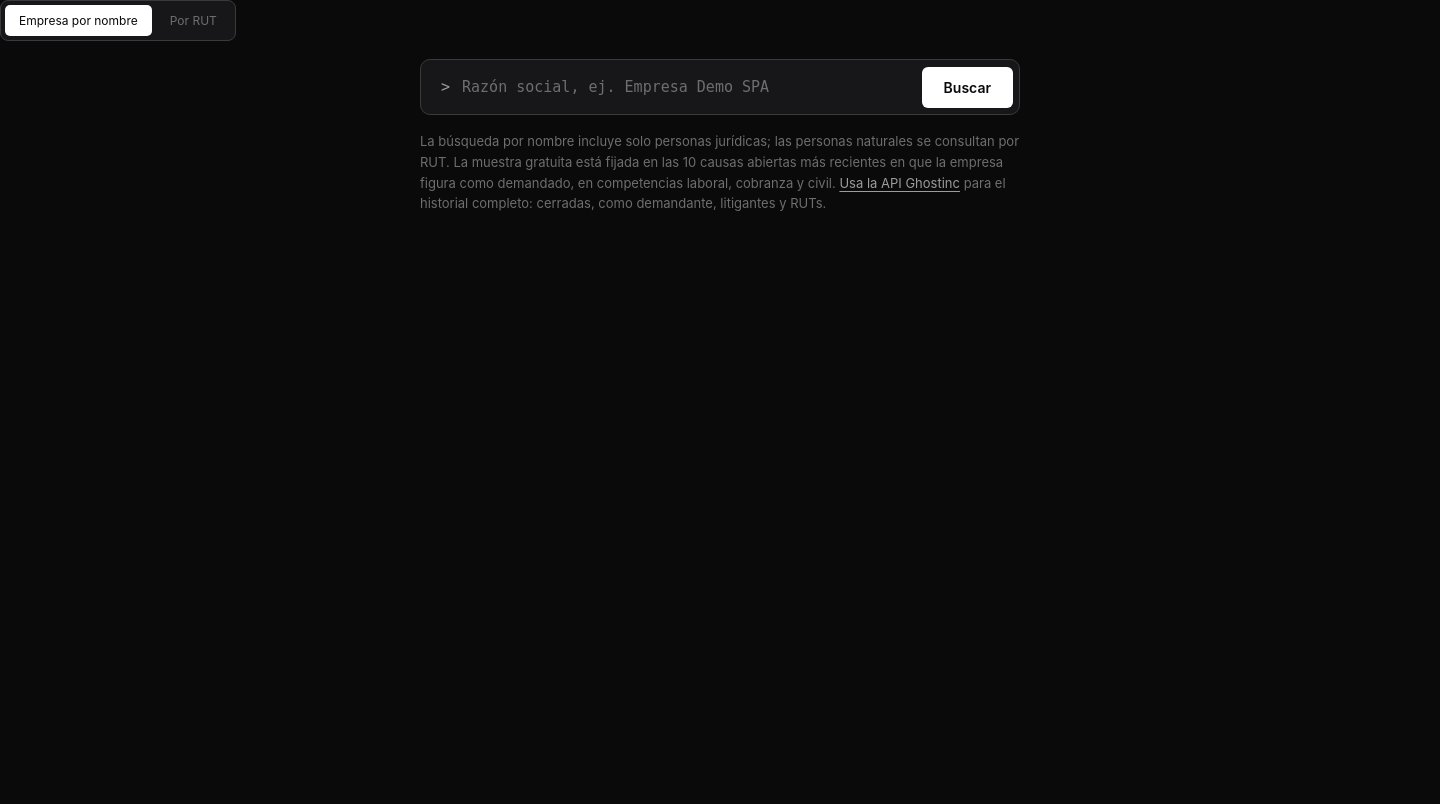
Test: SearchForm › busca por nombre de empresa y muestra resultados
Type "Empresa Demo SPA" into the search field at (686, 87), box [462, 66, 910, 108]
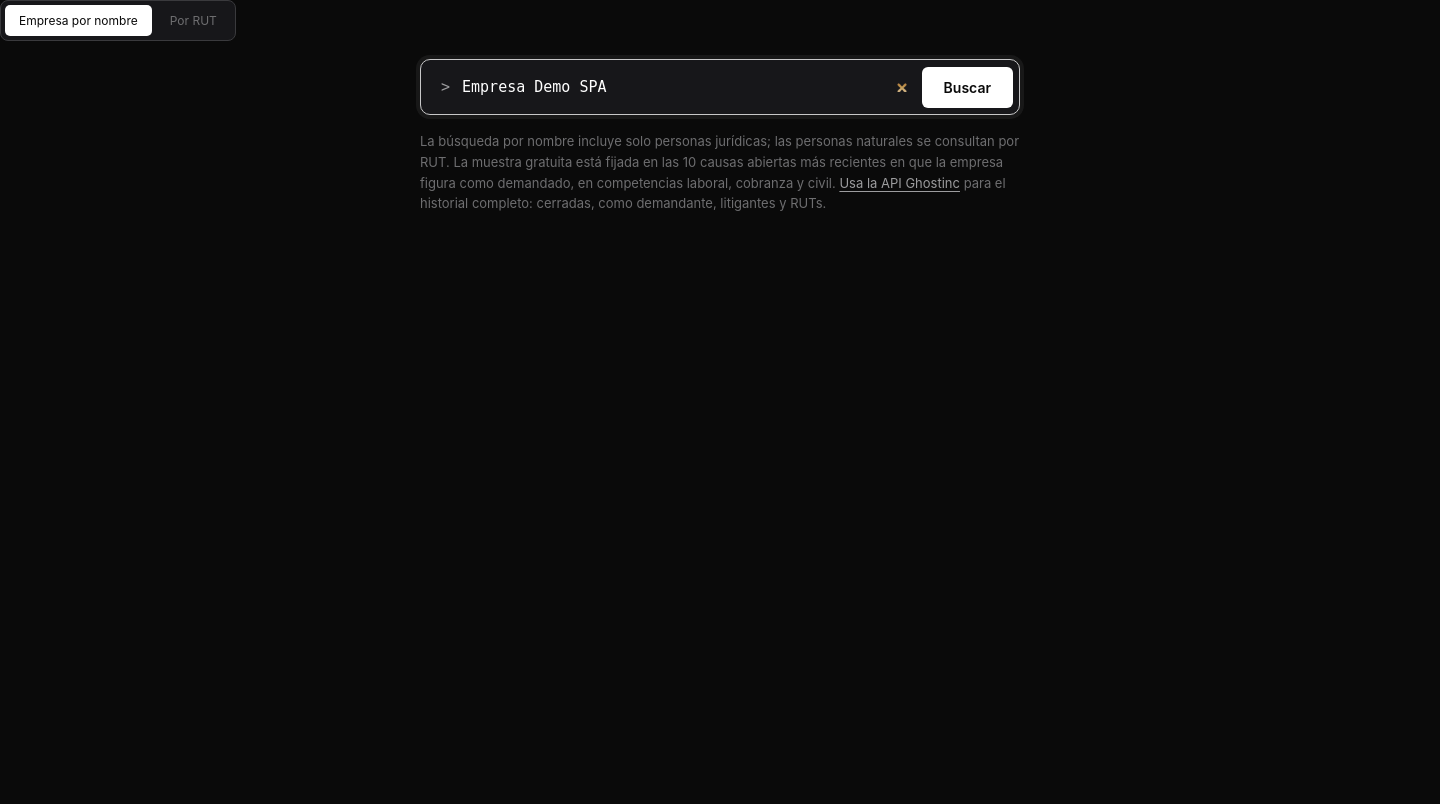
Click the button "Buscar" at (967, 87), box [922, 66, 1013, 108]
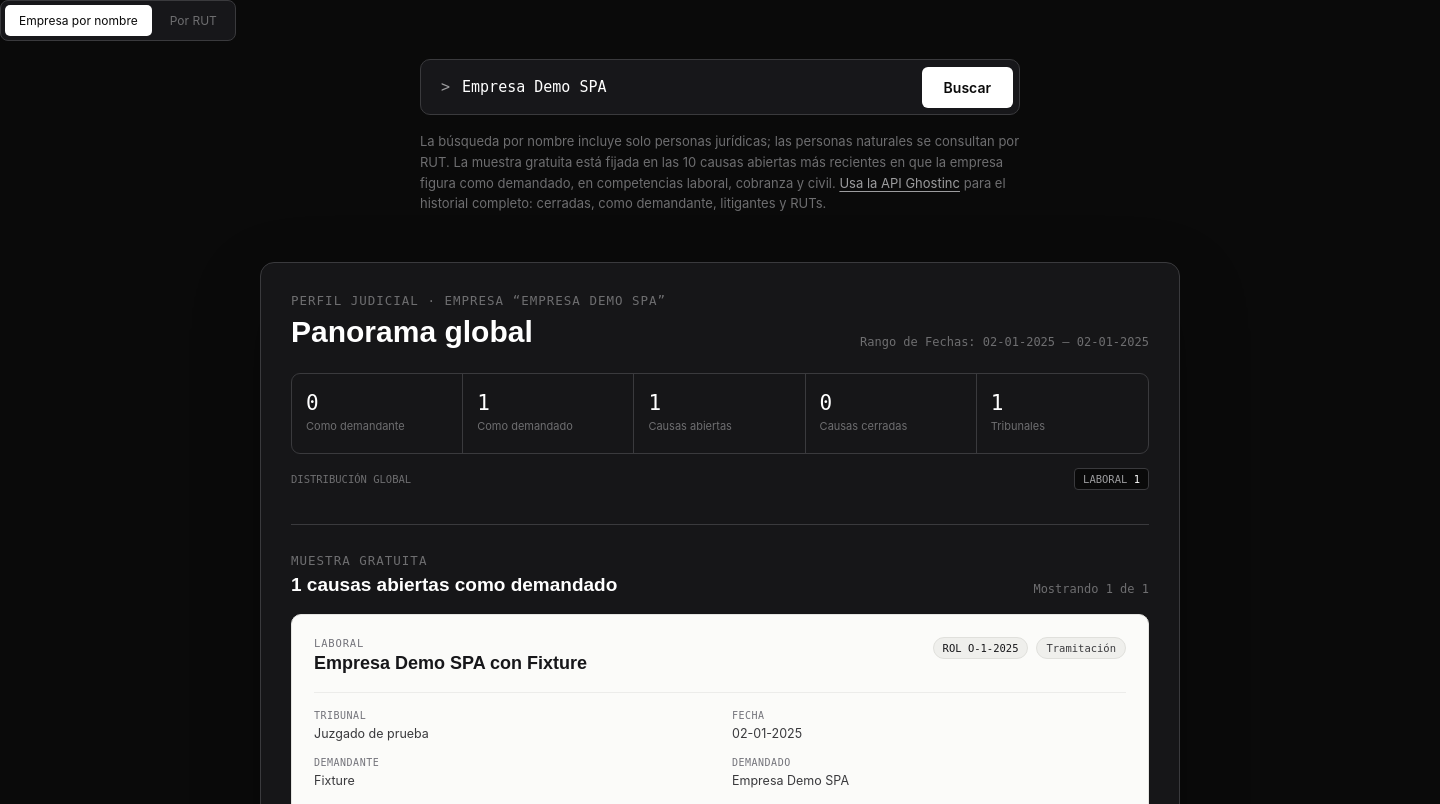
Now the link "ROL O-1-2025" is shown, box [933, 637, 1028, 659]
